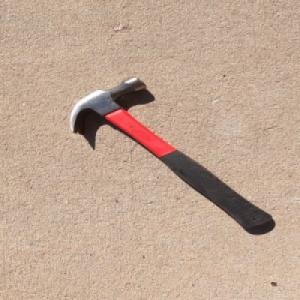Hammer: (66, 76, 276, 230)
